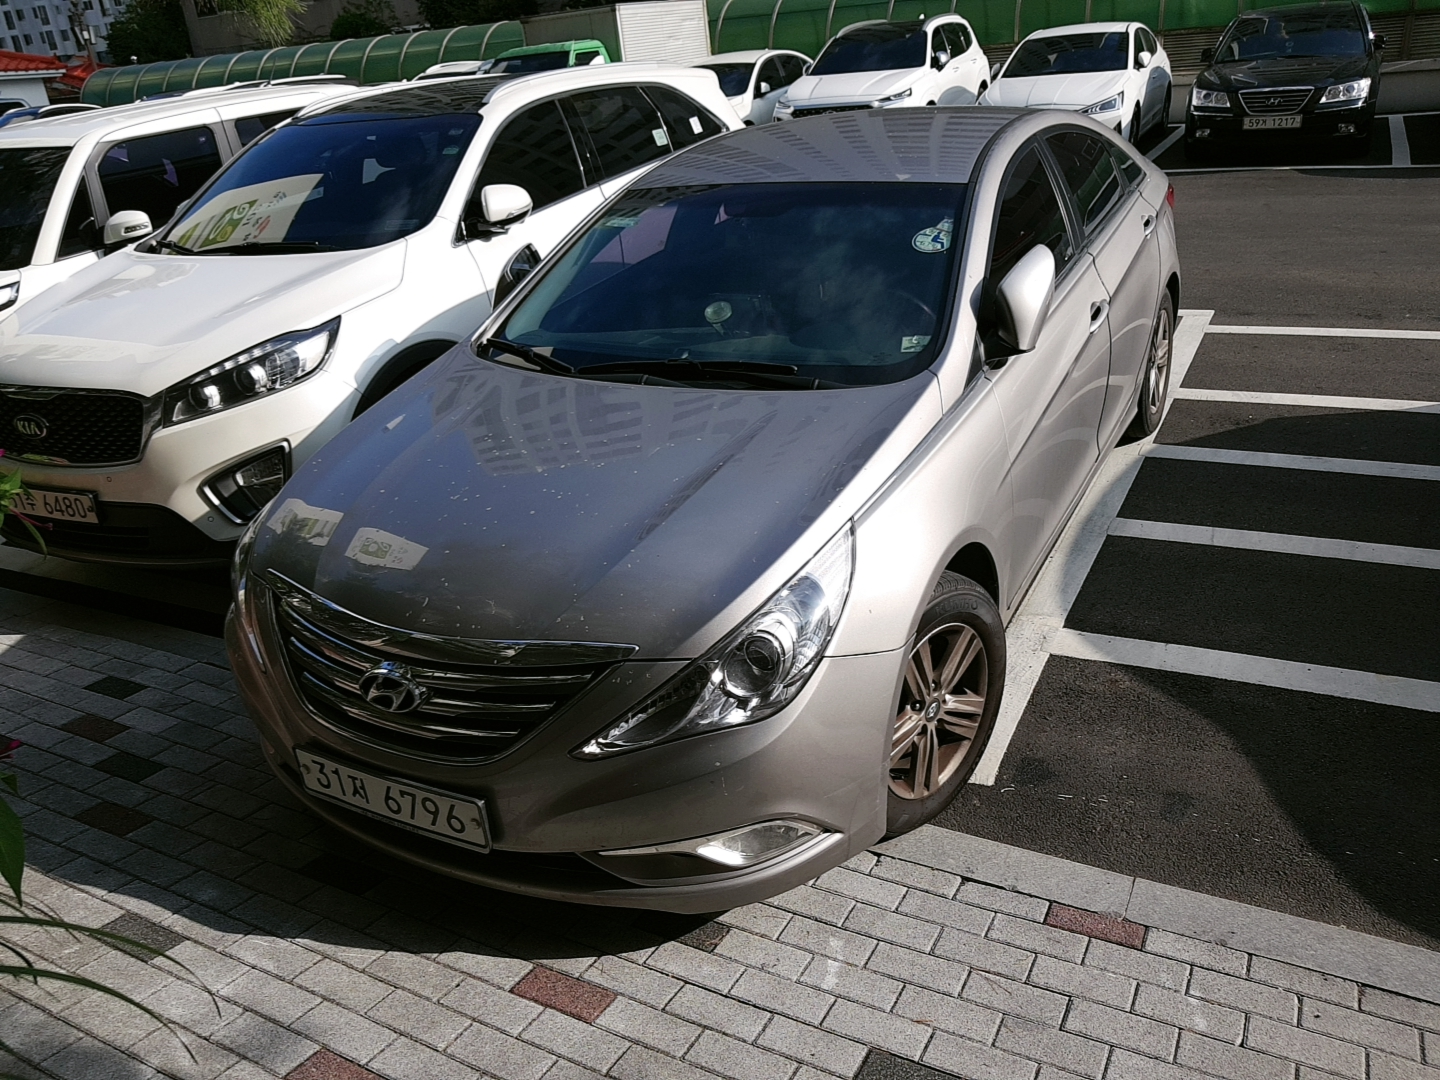disabled_parking: (915, 222, 952, 256)
